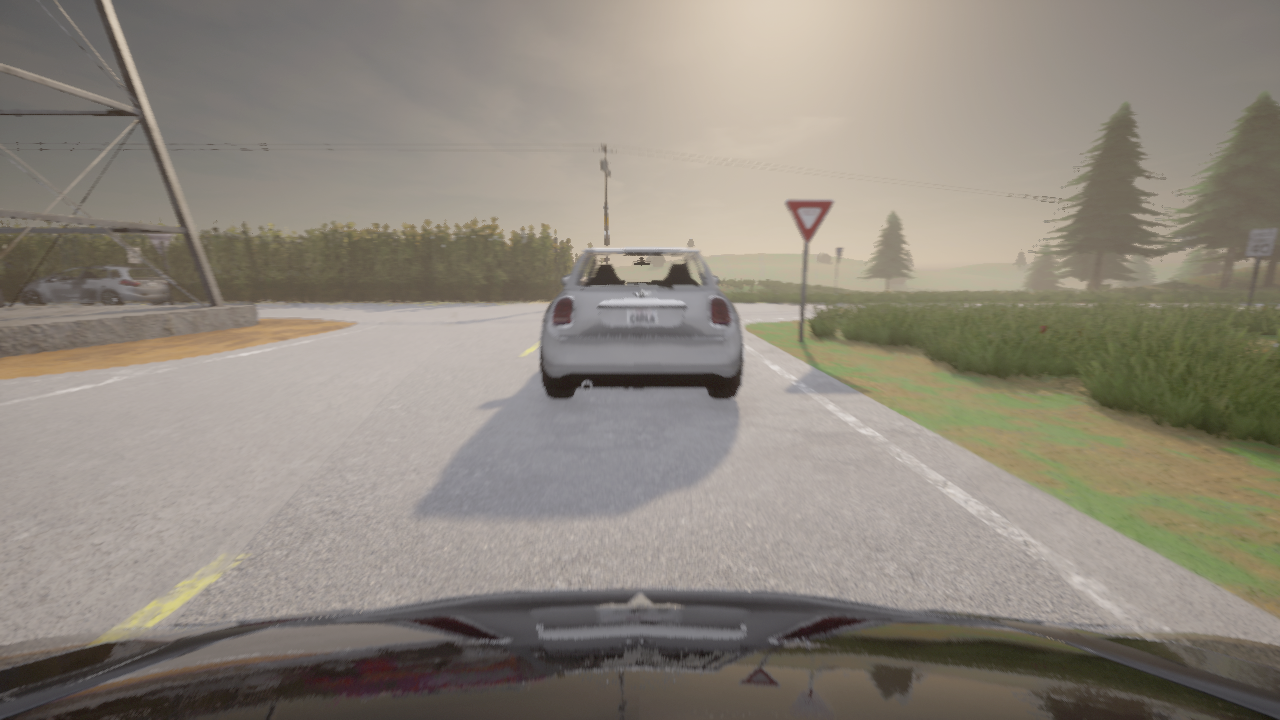cyclist: (0, 588, 1279, 719), (539, 247, 743, 400), (20, 265, 168, 305)
